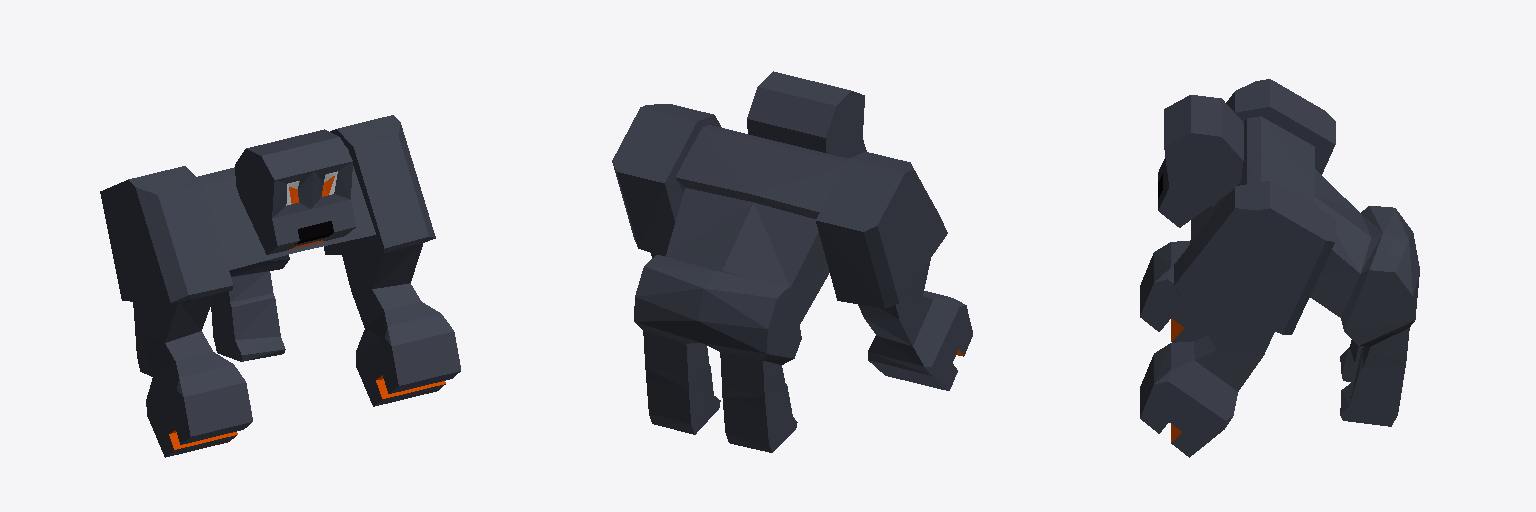
3 renders of one model, left to right at view 1: azimuth 30°, elevation 25°; view 2: azimuth 150°, elevation 25°; view 3: azimuth 270°, elevation 25°, orthographic.
Visible parts, largest first — view 1: Cube; view 2: Cube; view 3: Cube.
Boxes of the visible parts, x1,y1,x2,y2 form: Cube: [100, 115, 460, 457]; Cube: [612, 71, 972, 452]; Cube: [1140, 79, 1419, 457].
Bounding box in the file's own units: 5.84 × 5.83 × 5.21.
Materials: 1 (1 with a texture image).